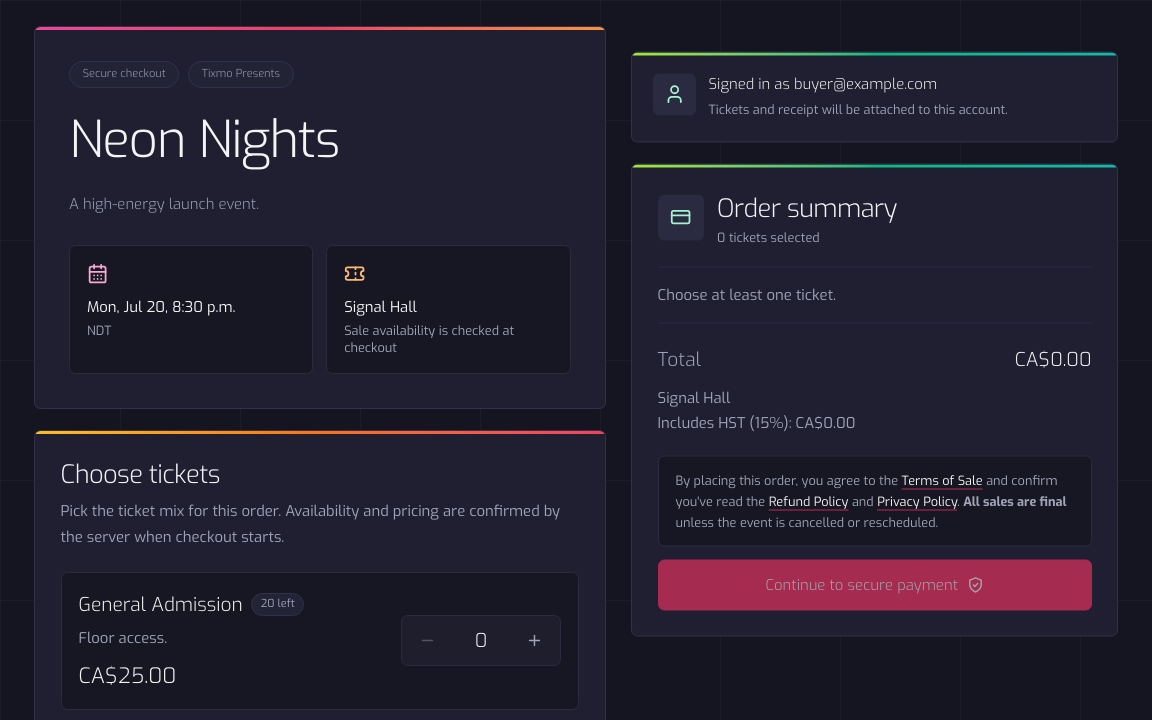
Test: open-page sale boundaries › does not turn a skewed browser selection into entitlement when the API rejects
The image size is (1152, 720).
What coordinates should you click on to do the following:
click the button named "Increase General Admission"
I would click on:
 (535, 641)
Its box is [509,616,560,665].
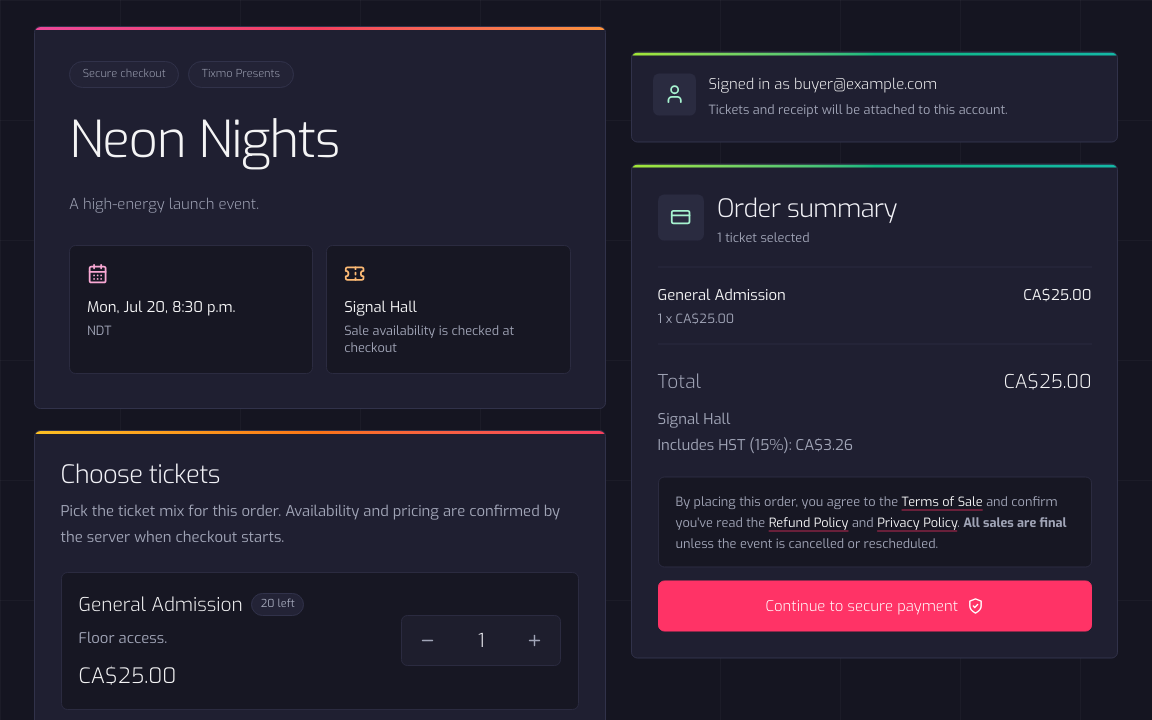
What coordinates should you click on to do the following:
click the button "Continue to secure payment"
I would click on:
 (875, 606)
Its box is [658,581,1092,632].
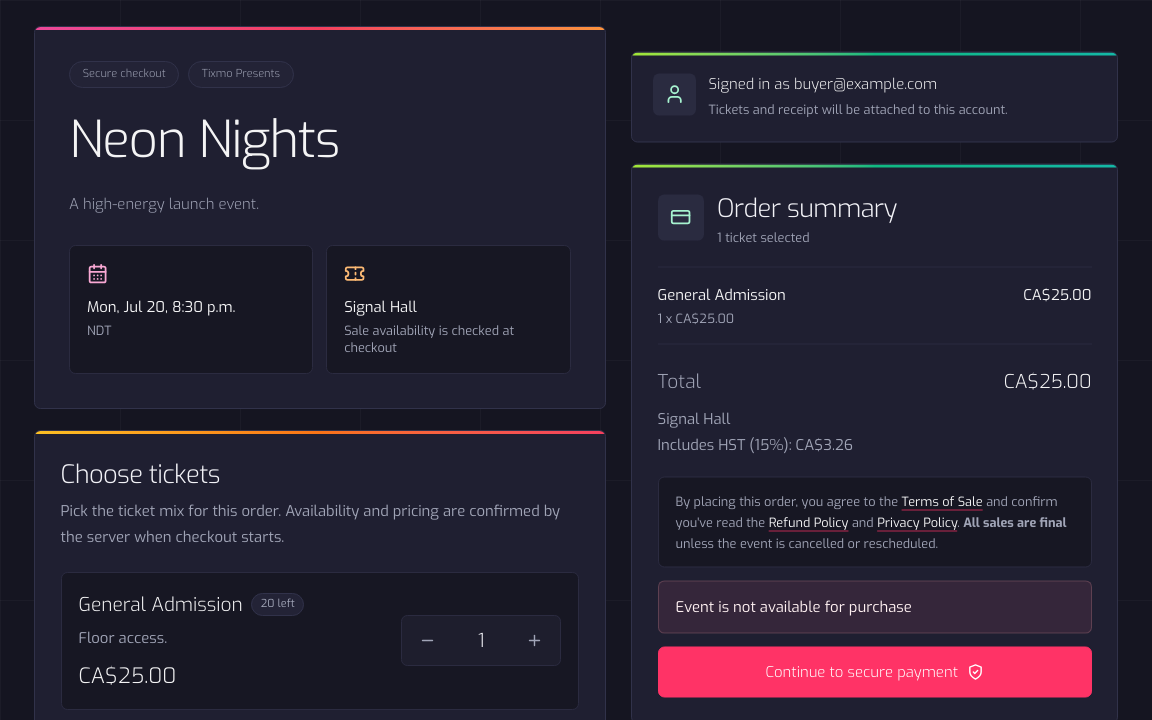
Expected: the text "Event is not available for purchase" is shown, [658,581,1092,634]
